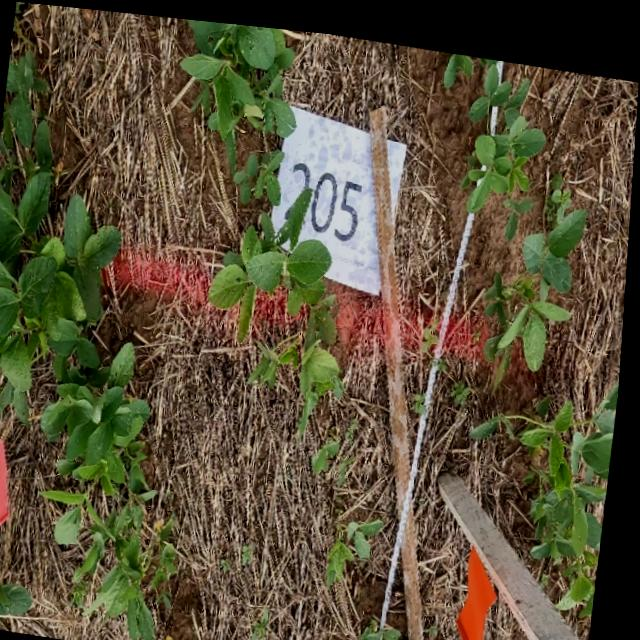caruru_weed: (0, 1, 58, 275), (453, 369, 477, 397), (424, 308, 442, 345), (452, 308, 467, 332), (417, 382, 429, 406), (442, 348, 453, 363), (476, 320, 481, 333)
soy_plant: (0, 53, 183, 636), (212, 183, 349, 425), (529, 373, 623, 599), (182, 15, 297, 199), (488, 166, 588, 357), (471, 47, 546, 198), (333, 511, 388, 577), (372, 615, 414, 640), (0, 584, 26, 614)
